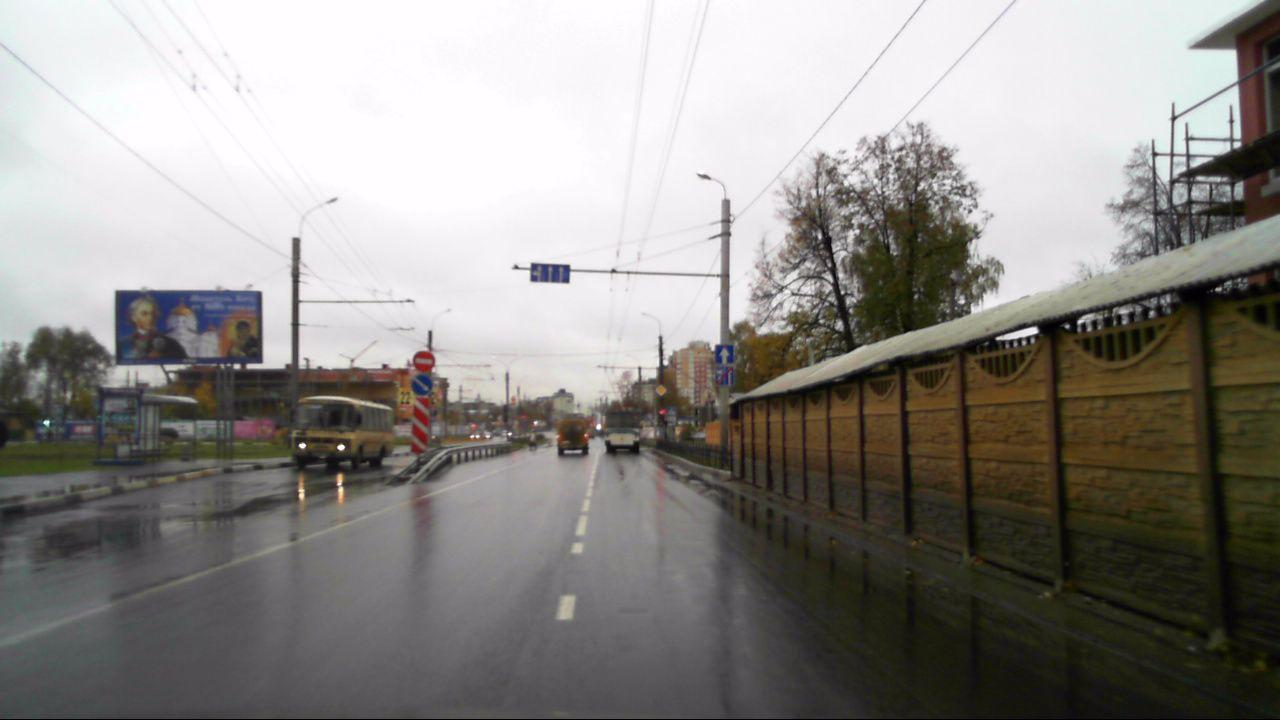2_1: (653, 383, 668, 397)
3_1: (412, 350, 437, 373)
4_2_1: (411, 374, 435, 395)
5_12_1: (714, 367, 732, 387)
5_15_1: (525, 261, 572, 284)
5_5: (712, 342, 736, 365)
8_22_1: (411, 396, 432, 453)
